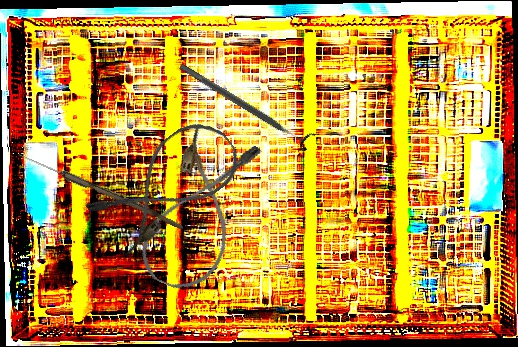Cannula: (82, 109, 250, 260), (130, 120, 268, 301)
Fixation Ring: (174, 55, 317, 154)
Surgical Spoon: (16, 151, 186, 230)
